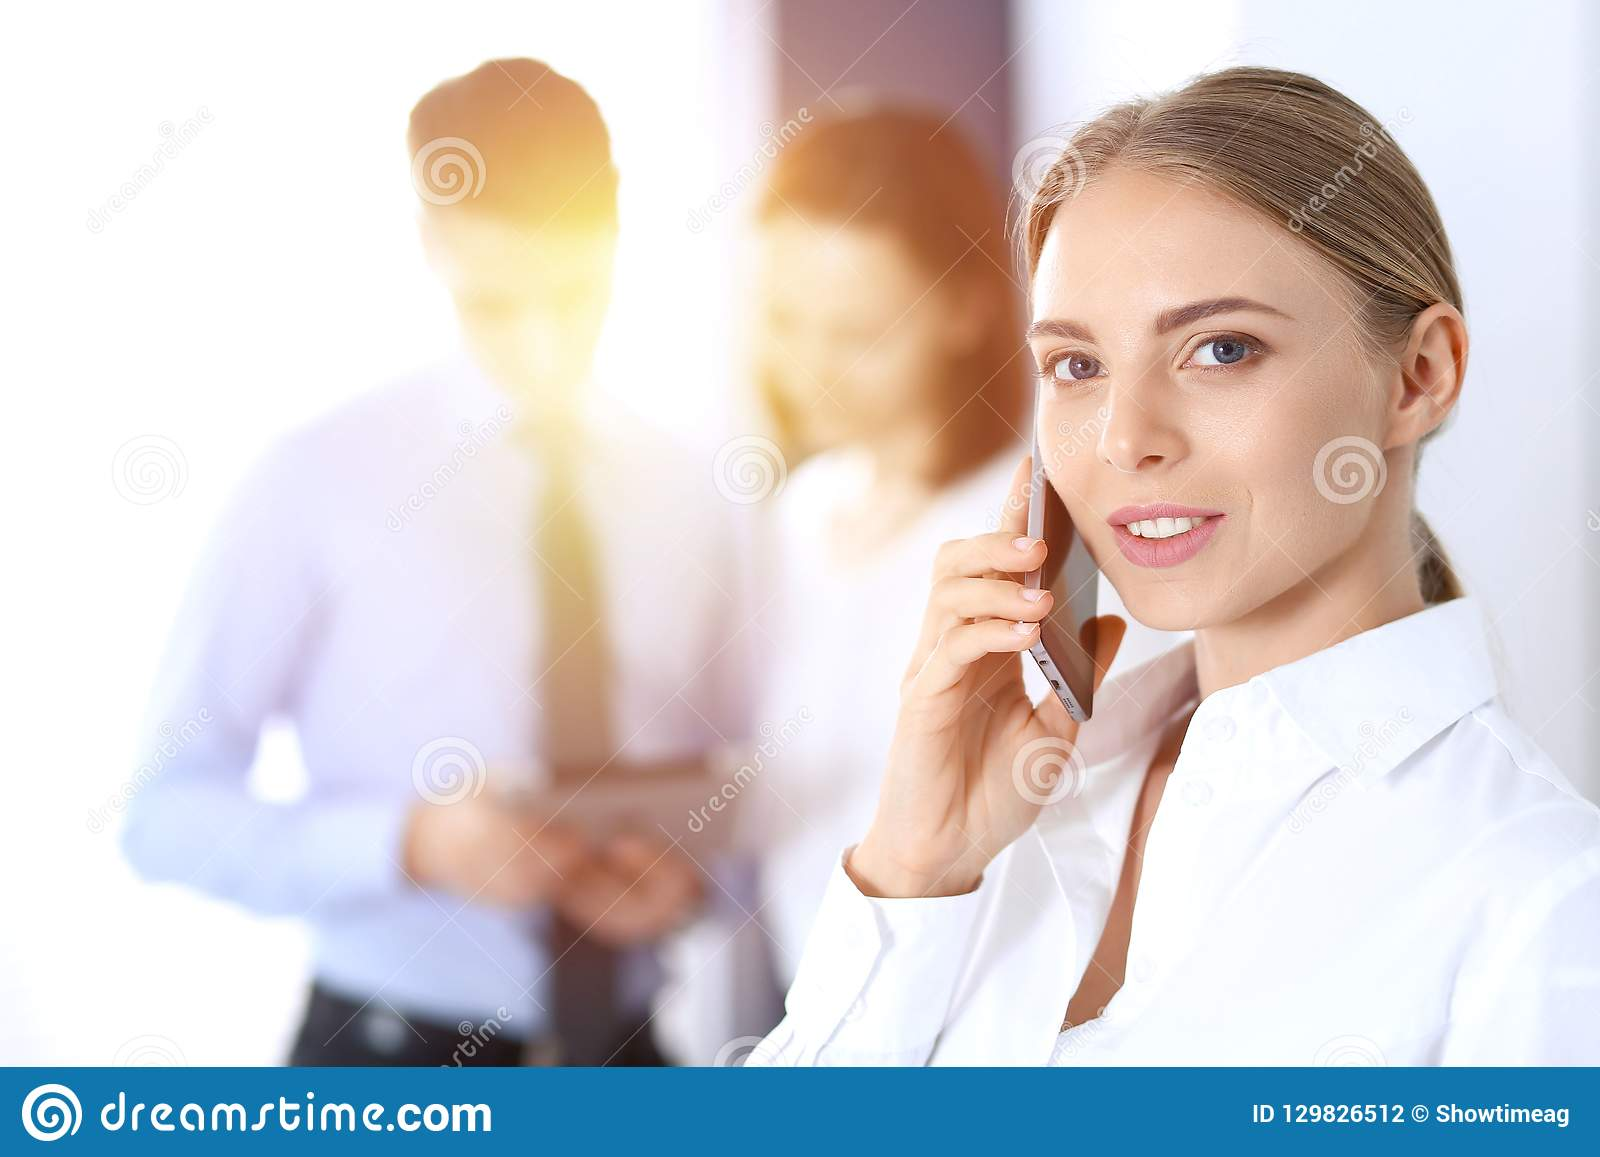phone: (1021, 428, 1103, 731)
talk: (882, 283, 1307, 900)
